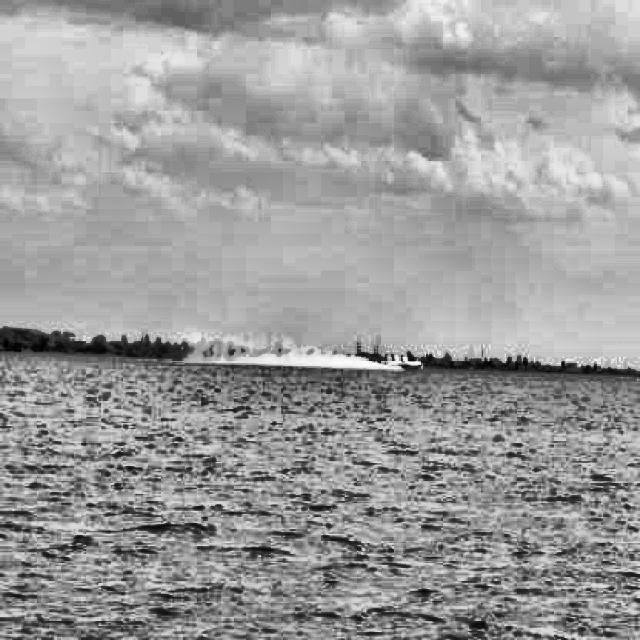Be200: (375, 351, 427, 371)
